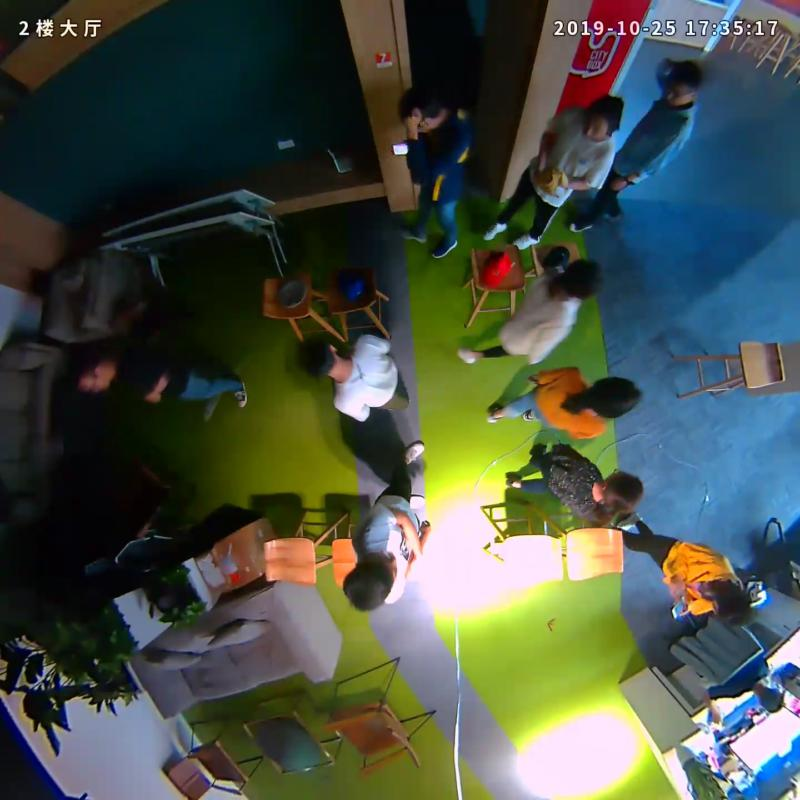head: (344, 550, 399, 613), (709, 580, 756, 628), (591, 376, 642, 420), (398, 86, 443, 134), (296, 336, 342, 381), (604, 468, 646, 516), (553, 259, 601, 301), (581, 94, 622, 143), (67, 354, 114, 394), (663, 61, 702, 109)
